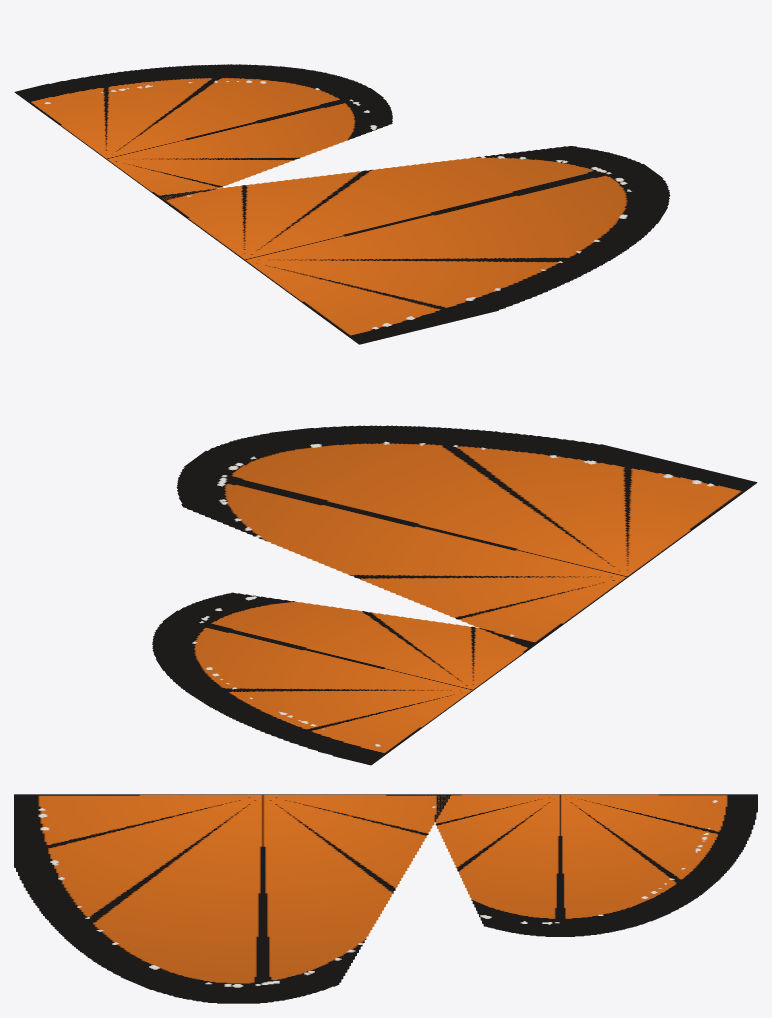
Rendered from ala_izq.obj.
3 views of the same model, one above another, from view 1: azimuth 30°, elevation 25°; view 2: azimuth 150°, elevation 25°; view 3: azimuth 270°, elevation 25° (orthographic). The views are drawn at different scales.
Parts seen in each view (by area): view 1: AlaDel_0_1, AlaTras_0_1; view 2: AlaDel_0_1, AlaTras_0_1; view 3: AlaDel_0_1, AlaTras_0_1.
Part boxes in pixels (left/top/right/bottom): AlaDel_0_1: left=156, top=146, right=670, bottom=344; AlaTras_0_1: left=14, top=64, right=392, bottom=205; AlaDel_0_1: left=176, top=425, right=757, bottom=648; AlaTras_0_1: left=152, top=592, right=530, bottom=765; AlaDel_0_1: left=14, top=794, right=451, bottom=1003; AlaTras_0_1: left=425, top=794, right=757, bottom=936.
Bounding box in the file's own units: 0.05 × 0 × 0.075.
Materials: 2 (2 with a texture image).
